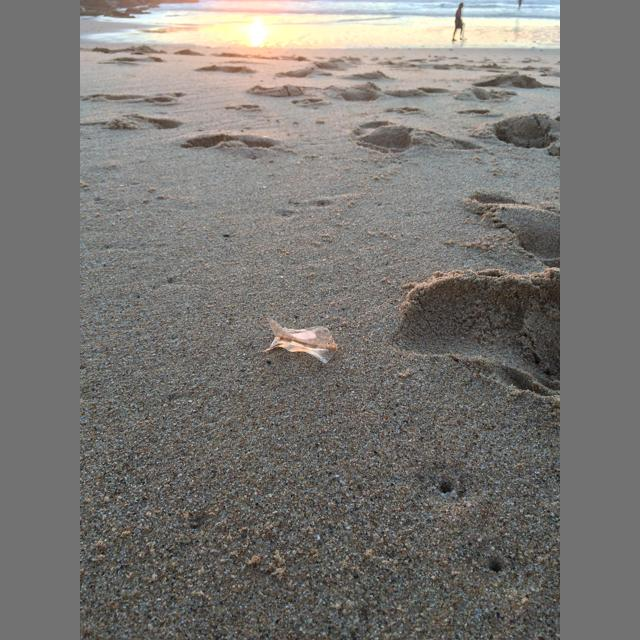litter: (262, 317, 337, 363)
